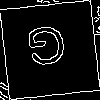G: (24, 25, 70, 75)
